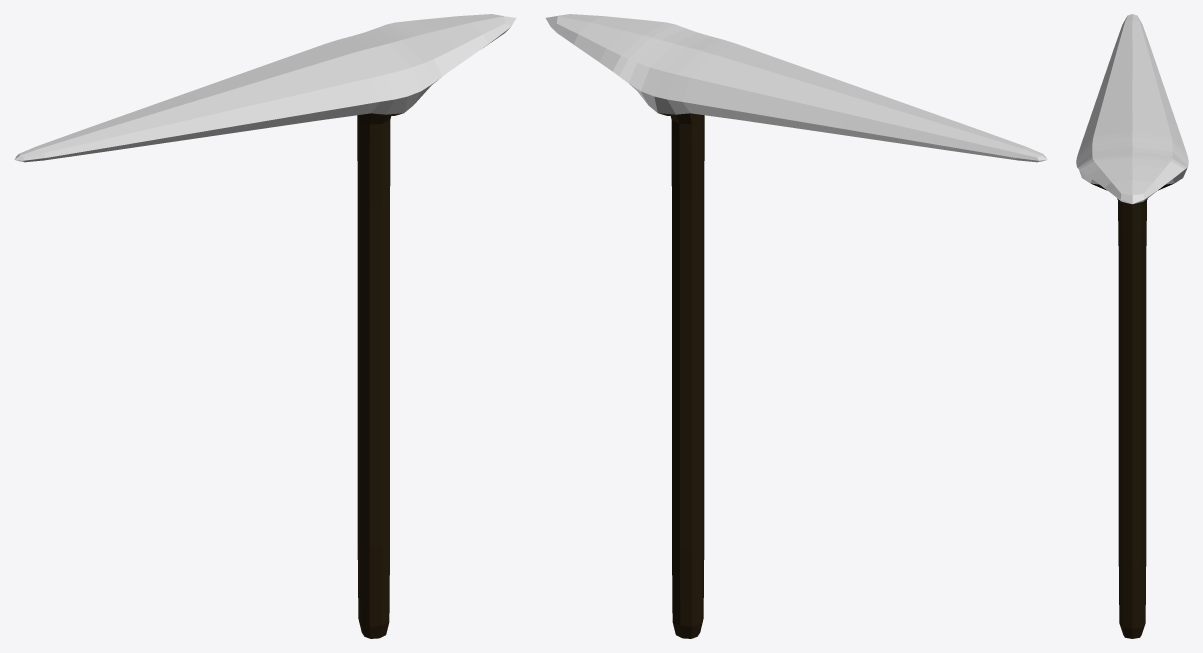
File: Pickaxe.fbx
3 renders of one model, left to right at view 1: azimuth 30°, elevation 25°; view 2: azimuth 150°, elevation 25°; view 3: azimuth 270°, elevation 25°, orthographic. The views are drawn at different scales.
Visible parts, largest first — view 1: Cube; view 2: Cube; view 3: Cube.
Part boxes in pixels (<box>): Cube: <box>14,14,516,638</box>; Cube: <box>545,14,1047,638</box>; Cube: <box>1076,14,1188,638</box>.
Size of the model in its own units: 425 by 477 by 98.22.
